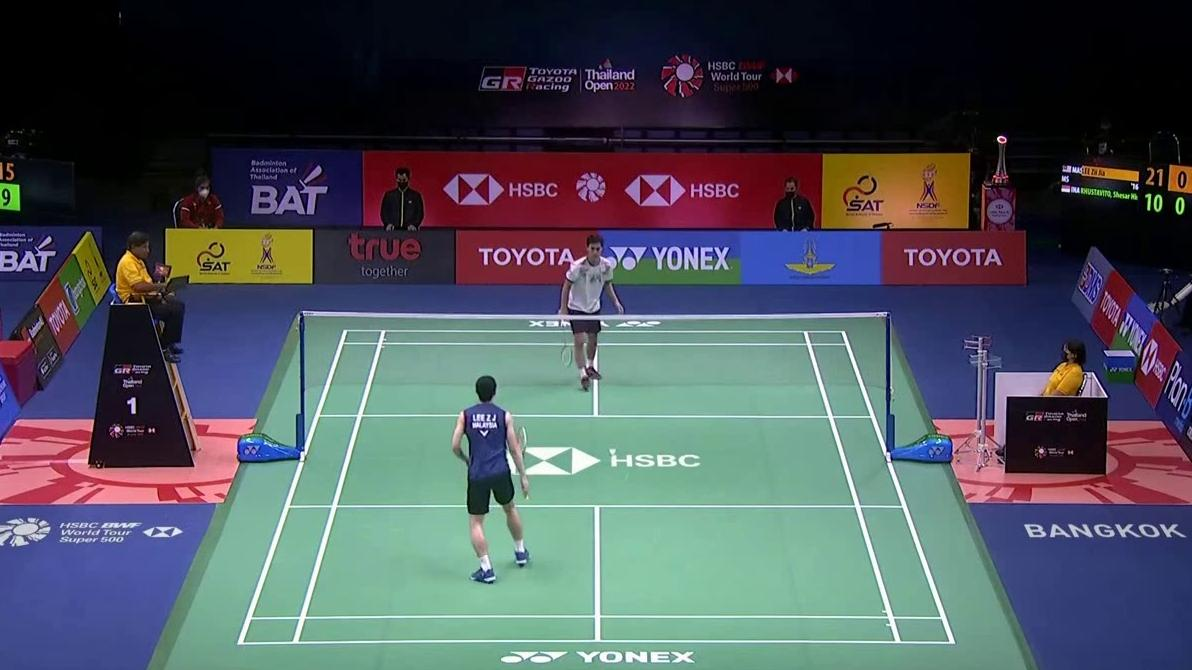racket: (516, 427, 530, 500), (560, 312, 573, 368)
shuttle: (609, 447, 616, 455)
